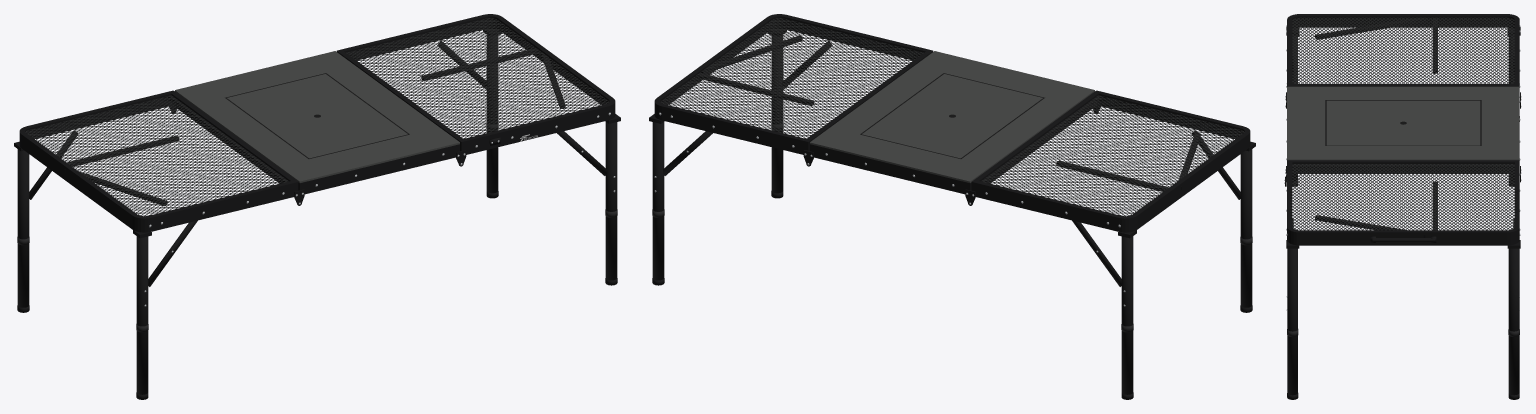
Rendered from fieldoor-panel-mesh-table.glb.
The picture shows the model from 3 angles, left to right: view 1: azimuth 30°, elevation 25°; view 2: azimuth 150°, elevation 25°; view 3: azimuth 270°, elevation 25°; orthographic projection. The views are drawn at different scales.
Bounding box in the file's own units: 1.21 × 0.4303 × 0.5504.
Materials: 8 (1 with a texture image).
